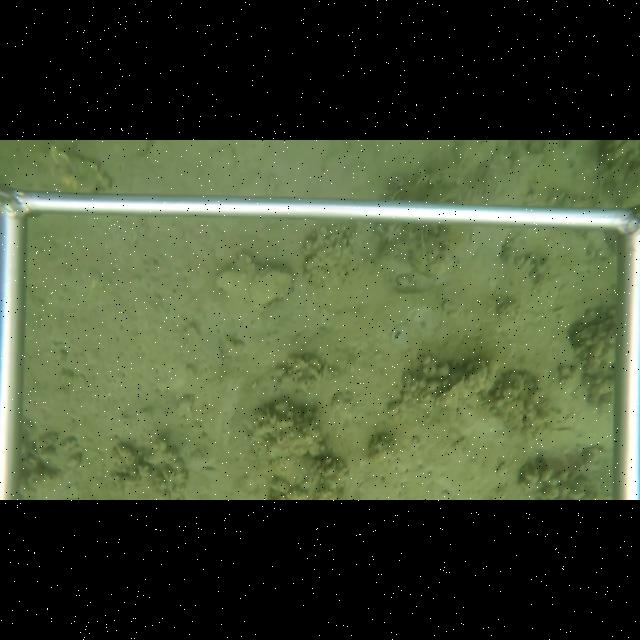Oyster-Closed: (432, 357, 493, 411), (48, 146, 115, 193), (247, 264, 300, 310)
